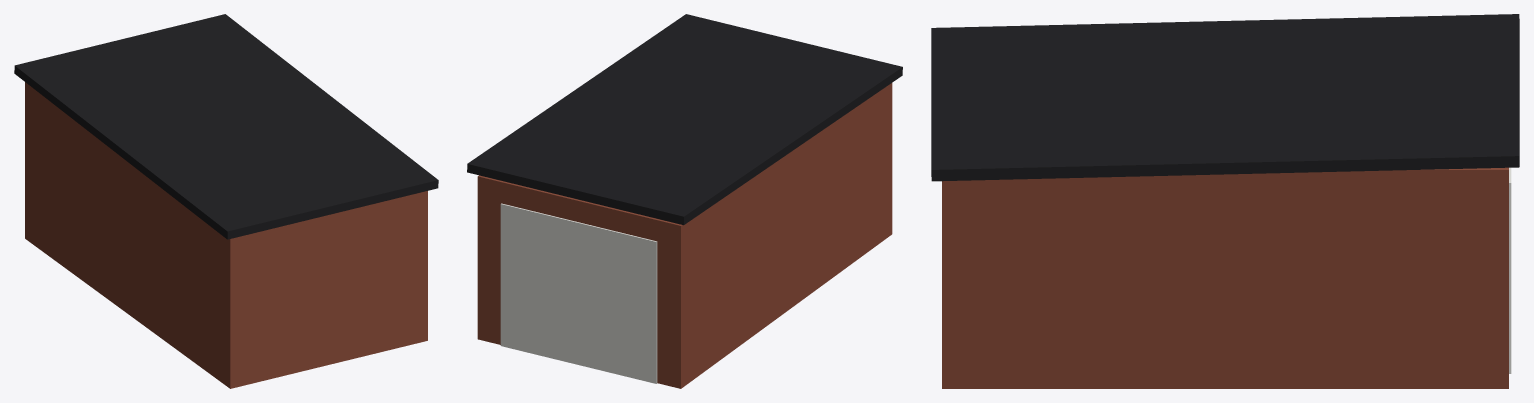
Rendered from street.garden.garage.glb.
3 renders of one model, left to right at view 1: azimuth 30°, elevation 25°; view 2: azimuth 150°, elevation 25°; view 3: azimuth 270°, elevation 25°, orthographic. The views are drawn at different scales.
Visible parts, largest first — view 1: main__brick, main__roof_felt; view 2: main__roof_felt, main__brick, main__paint_white; view 3: main__brick, main__roof_felt, main__paint_white.
Part boxes in pixels (x1,y1,x2,y2): main__brick: (25,82,427,388); main__roof_felt: (14,14,438,239); main__roof_felt: (467,14,902,225); main__brick: (477,83,892,388); main__paint_white: (500,203,657,383); main__brick: (942,167,1508,388); main__roof_felt: (931,14,1519,181); main__paint_white: (1509,167,1511,373).
Bounding box in the file's own units: 3.2 × 2.5 × 5.6.
